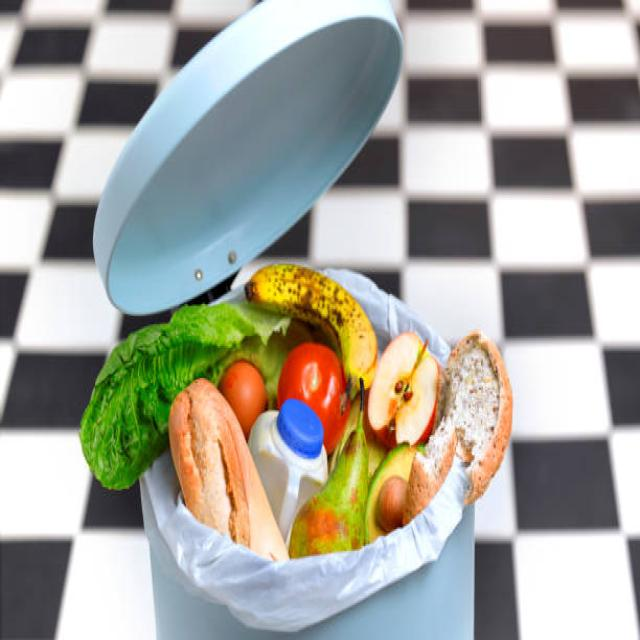trash: (106, 314, 496, 541)
